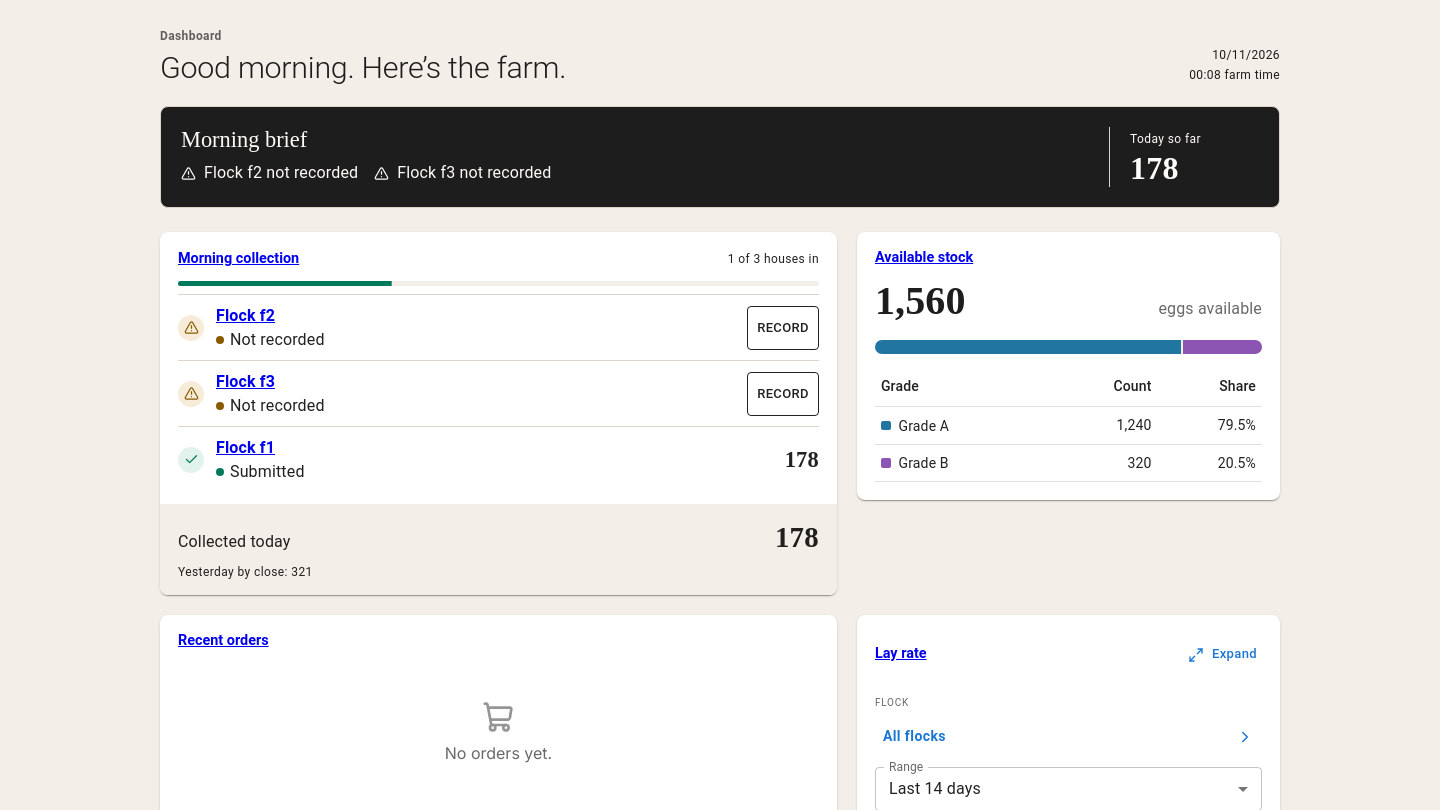
Test: Dashboard Lay rate flock scope (#916/#918 fidelity round) › the selector's accessible name reflects the scope after a pick
The image size is (1440, 810).
Click the button "All flocks" at (914, 736), box x1=875 y1=715 x2=1262 y2=759
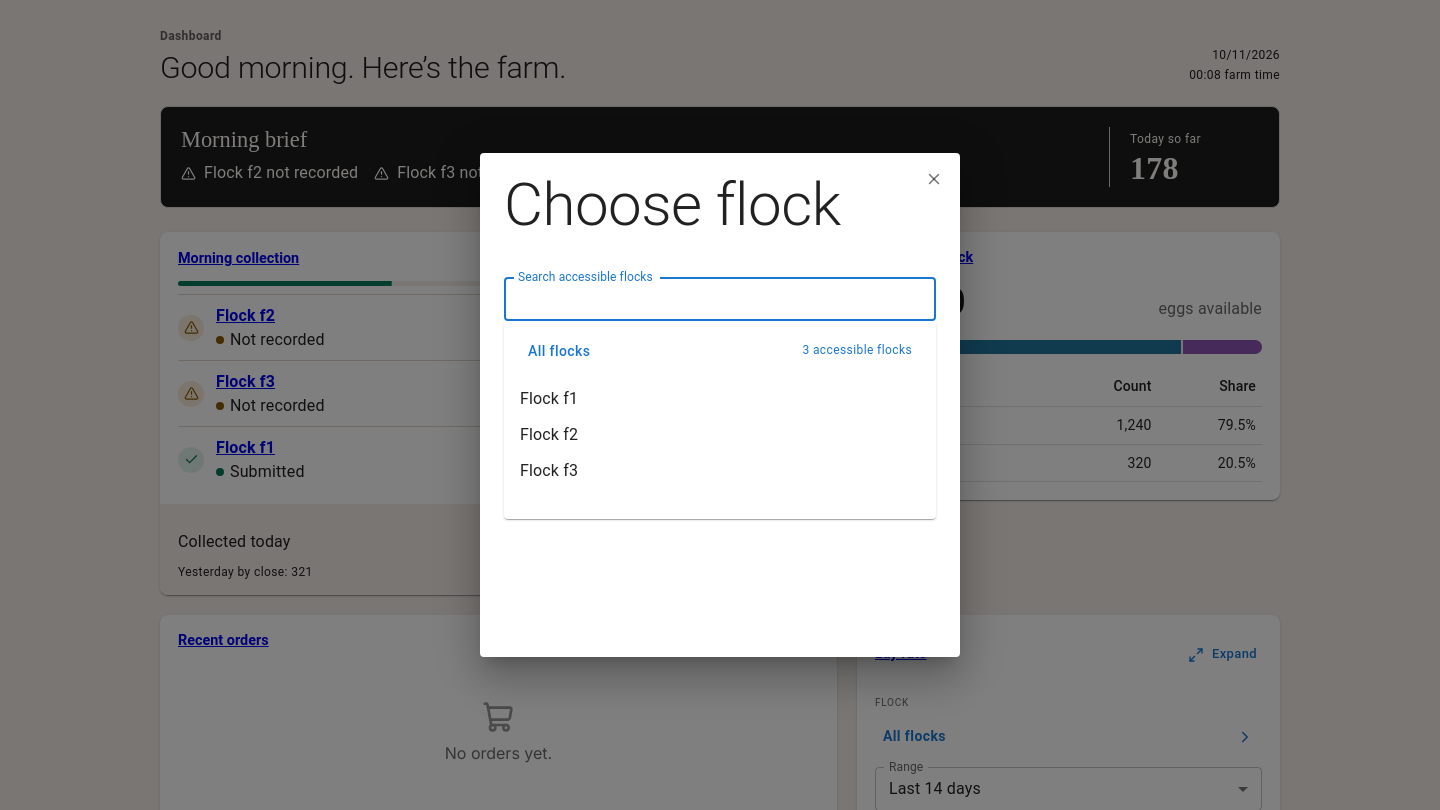
Expected: the text "Flock f1" is shown, x1=520 y1=387 x2=578 y2=411
Click the option "Flock f2" at (549, 434), box x1=520 y1=425 x2=578 y2=444
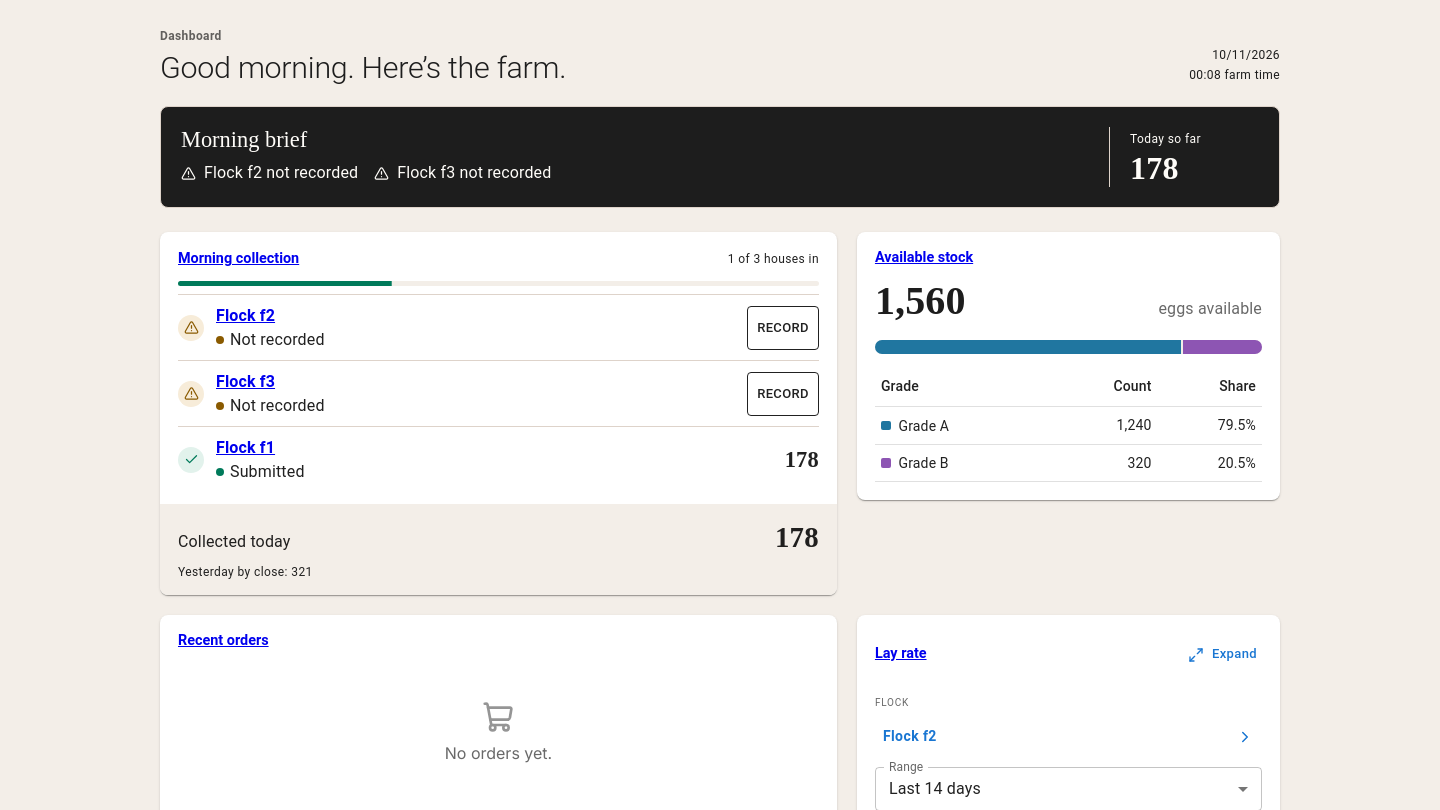
Expected: the dialog is gone
